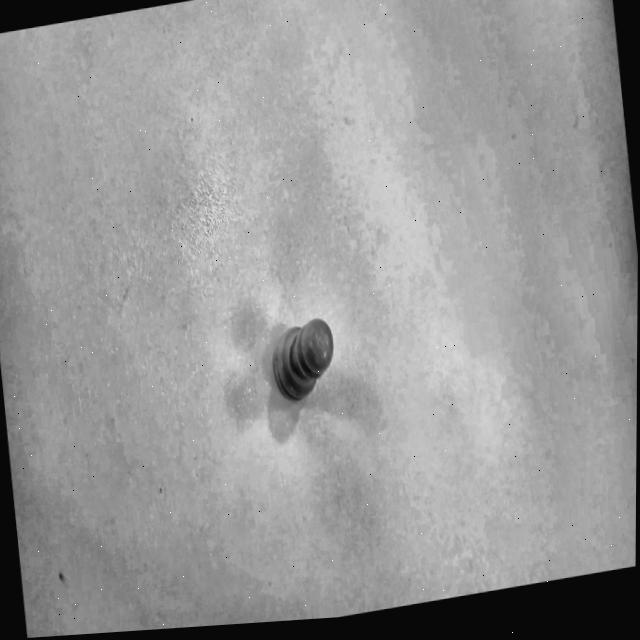white-pawn: (245, 290, 348, 430)
